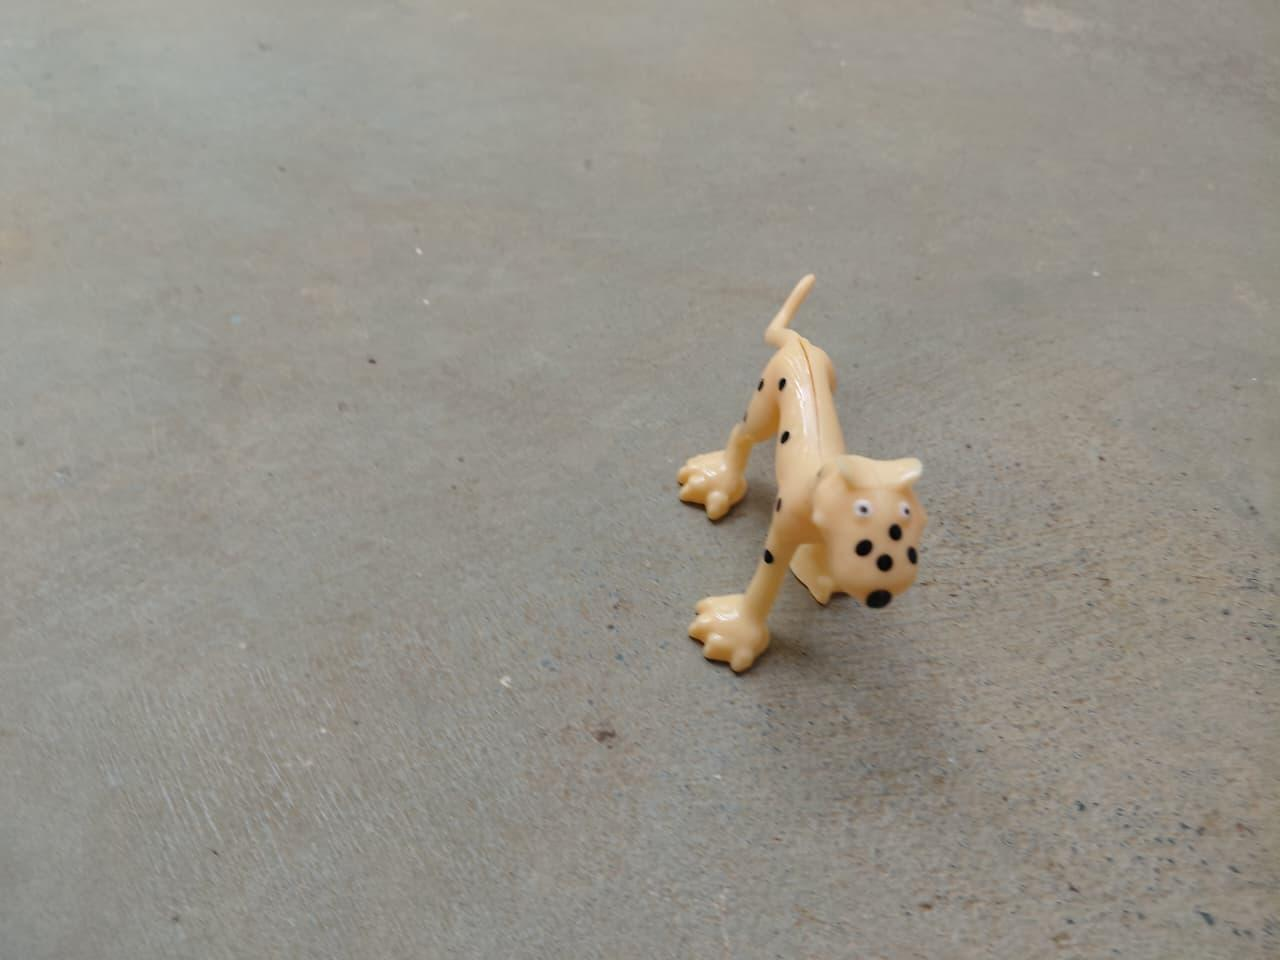cheetah: (666, 276, 934, 694)
